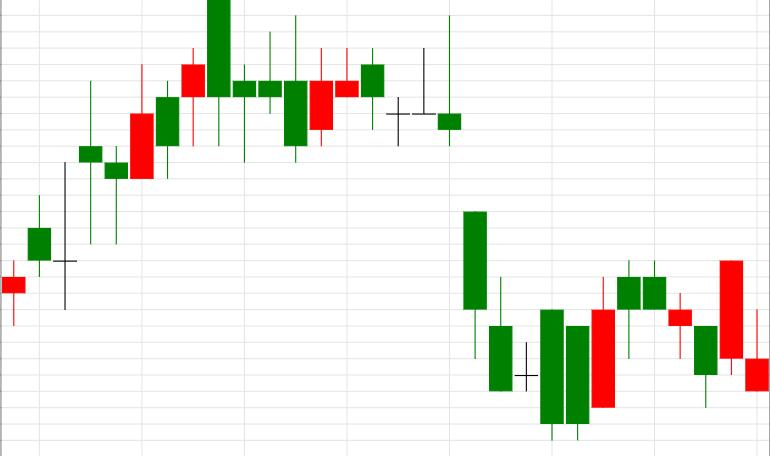bearish_engulfing_fall: (53, 1, 231, 311)
hanging_man_fall: (54, 48, 205, 311)
